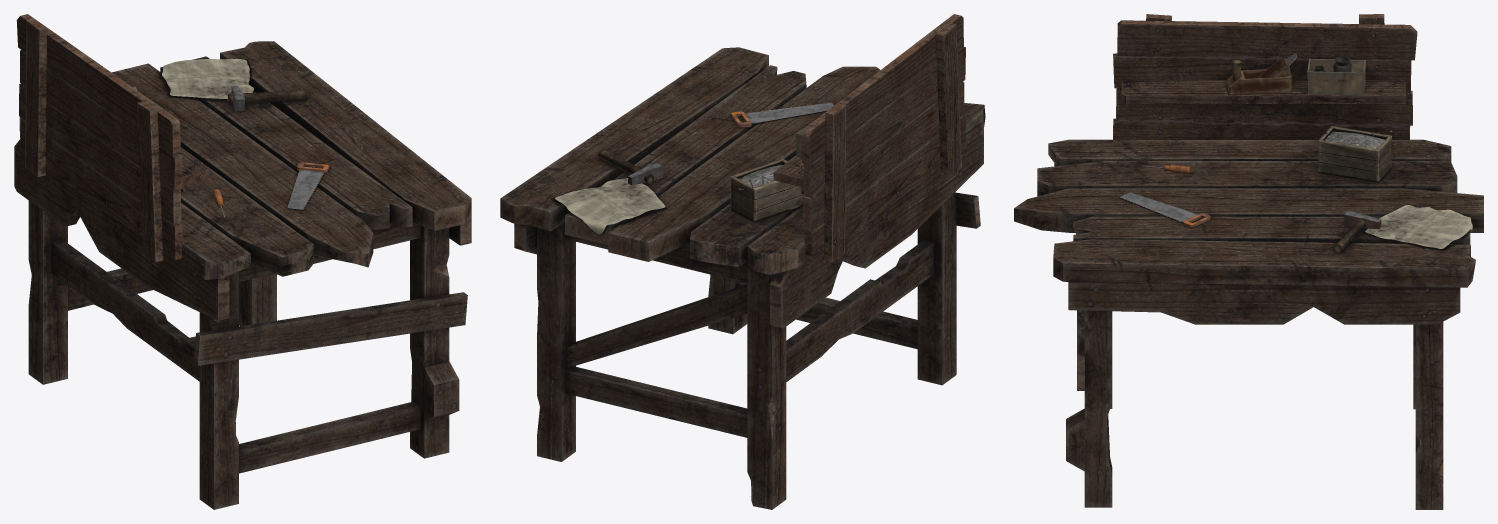
Rendered from WorkBench.fbx.
3 views of the same model, side by side, from view 1: azimuth 30°, elevation 25°; view 2: azimuth 150°, elevation 25°; view 3: azimuth 270°, elevation 25° (orthographic). The views are drawn at different scales.
Visible parts, largest first — view 1: SM_WorkBenchPrimitive.mo; view 2: SM_WorkBenchPrimitive.mo; view 3: SM_WorkBenchPrimitive.mo.
Boxes of the visible parts, x1,y1,x2,y2 form: SM_WorkBenchPrimitive.mo: [14, 14, 471, 509]; SM_WorkBenchPrimitive.mo: [500, 14, 985, 509]; SM_WorkBenchPrimitive.mo: [1014, 14, 1483, 509].
Size of the model in its own units: 114 by 144 by 165.
